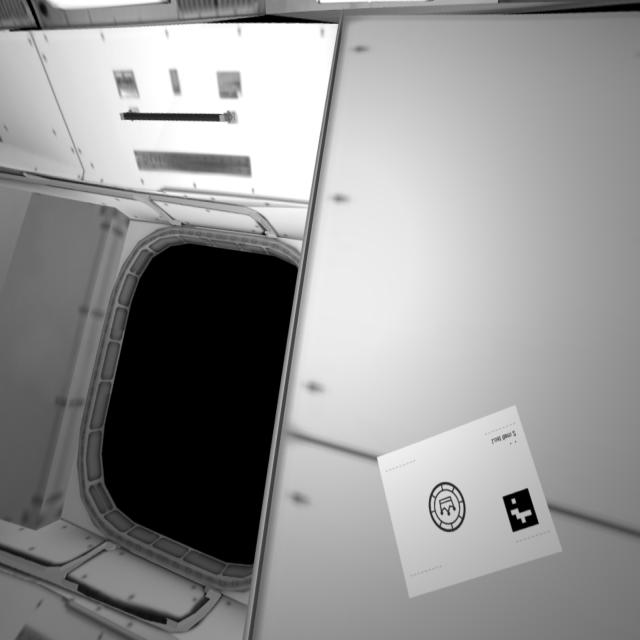coin: (427, 481, 472, 534)
